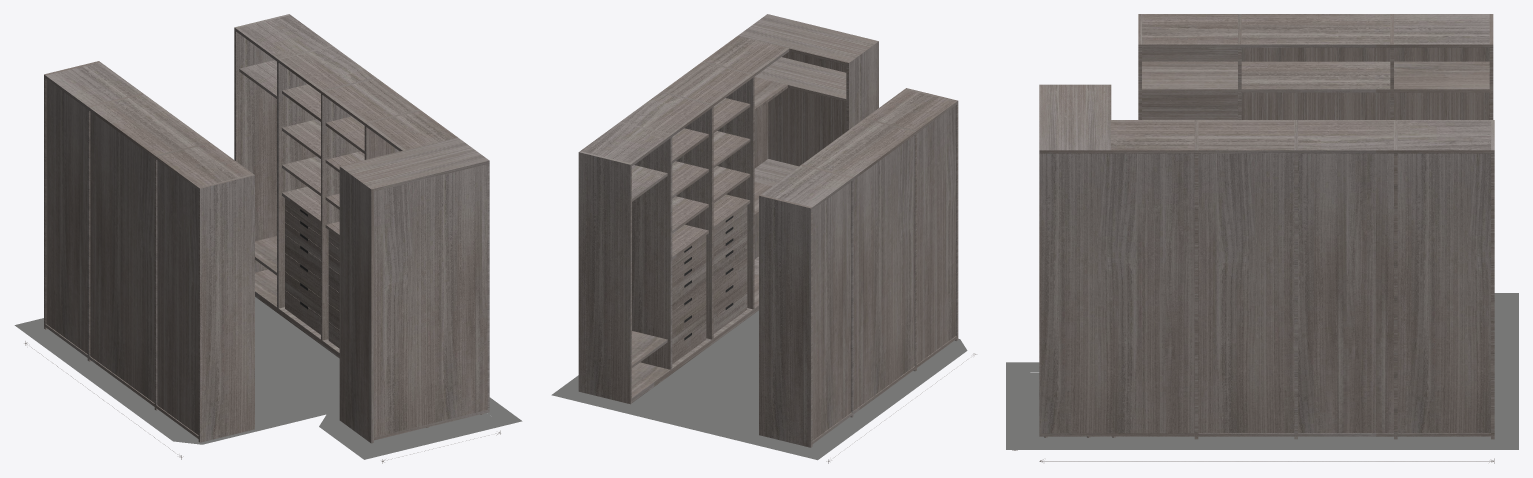
File: C2-D1-PC-Drawers-SC.obj
3 views of the same model, side by side, from view 1: azimuth 30°, elevation 25°; view 2: azimuth 150°, elevation 25°; view 3: azimuth 270°, elevation 25° (orthographic). The views are drawn at different scales.
Visible parts, largest first — view 1: Mesh2 Model, Mesh8 Model, Mesh5 Model, Mesh6 Model, Mesh4 Model; view 2: Mesh2 Model, Mesh8 Model, Mesh5 Model, Mesh6 Model, Mesh4 Model; view 3: Mesh2 Model, Mesh8 Model, Mesh10 Model.
Part boxes in pixels (x1,y1,x2,y2): Mesh2 Model: [44, 14, 492, 447]; Mesh8 Model: [14, 318, 522, 459]; Mesh5 Model: [282, 156, 320, 195]; Mesh6 Model: [282, 119, 320, 158]; Mesh4 Model: [282, 84, 320, 121]; Mesh2 Model: [578, 14, 959, 448]; Mesh8 Model: [551, 339, 967, 460]; Mesh5 Model: [672, 196, 708, 233]; Mesh6 Model: [672, 161, 708, 198]; Mesh4 Model: [672, 128, 708, 163]; Mesh2 Model: [1030, 14, 1494, 439]; Mesh8 Model: [1006, 293, 1518, 449]; Mesh10 Model: [1142, 61, 1237, 92].
Bounding box in the file's own units: 122 × 109 × 166.
Materials: 7 (4 with a texture image).
